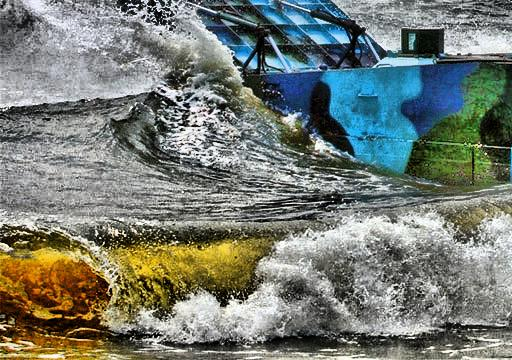tanks: (176, 1, 512, 187), (122, 1, 176, 9)
